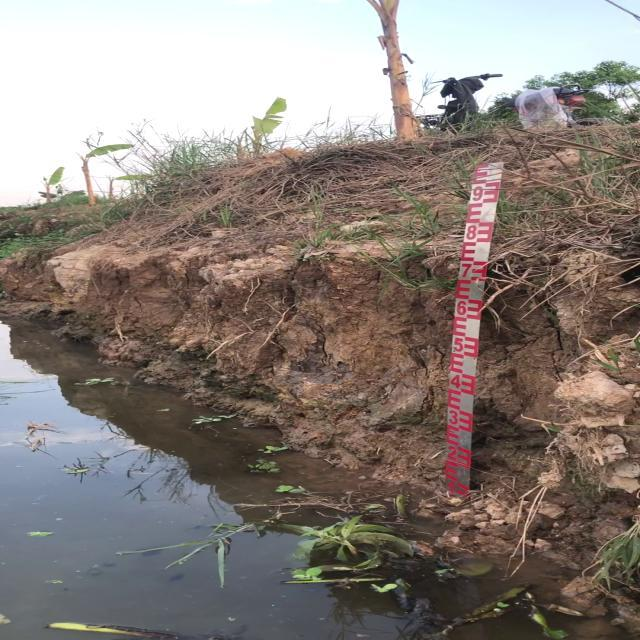ruler: (425, 150, 521, 504)
value: (469, 183, 485, 206), (446, 405, 461, 429), (450, 334, 466, 355), (447, 370, 463, 391), (464, 221, 478, 243), (454, 297, 468, 319), (446, 442, 459, 464), (459, 260, 473, 280)
